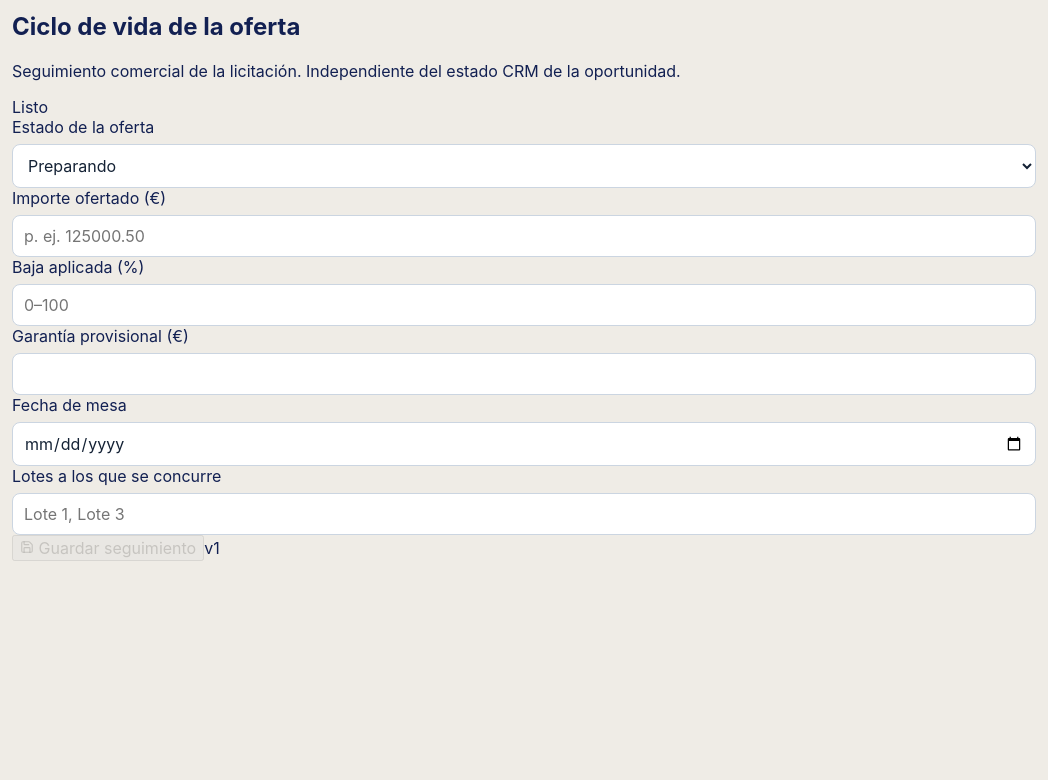
Test case: OpportunityOfferLifecyclePanel › muestra dirty-state y permanece visible sin depender de artifact
Step 1. Type "50" into the field with test id "offer-lifecycle-importe" → (524, 236), box left=12, top=215, right=1036, bottom=257
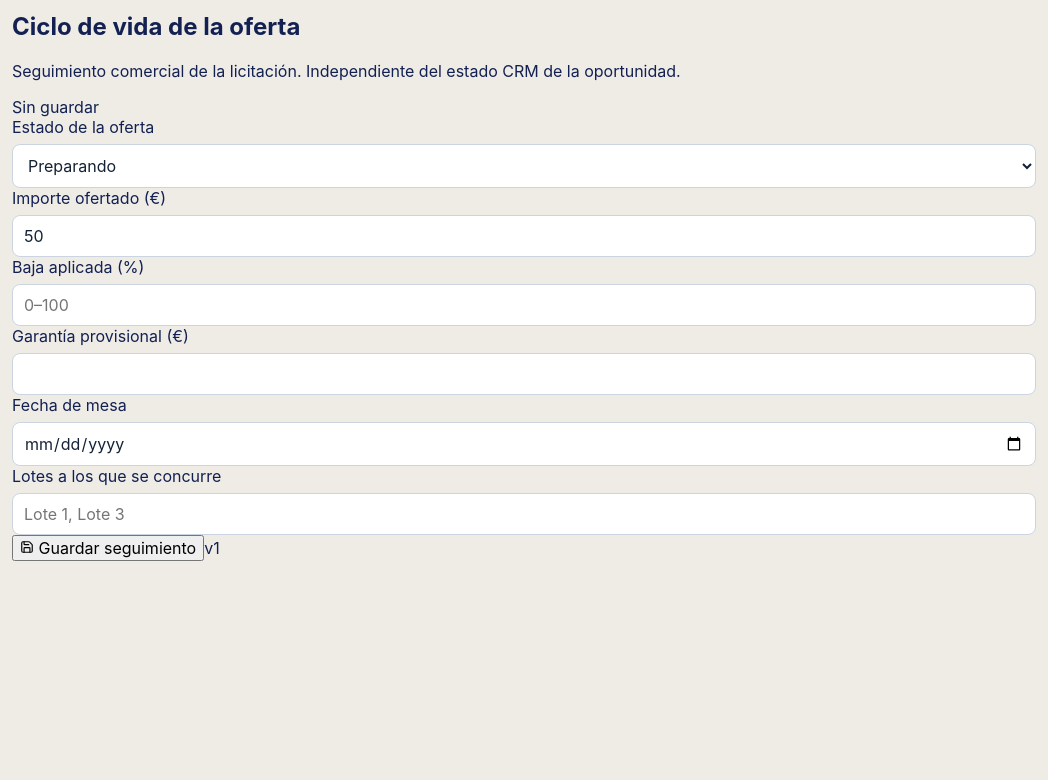
Expected: the message with test id "offer-lifecycle-save-status" reads "Sin guardar", left=12, top=97, right=99, bottom=117
Expected: the button with test id "offer-lifecycle-save" is enabled, left=12, top=535, right=204, bottom=561
